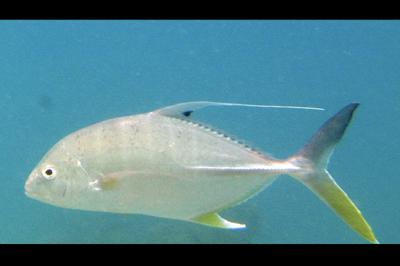Carangidae -Jacks-: (17, 87, 379, 246)
